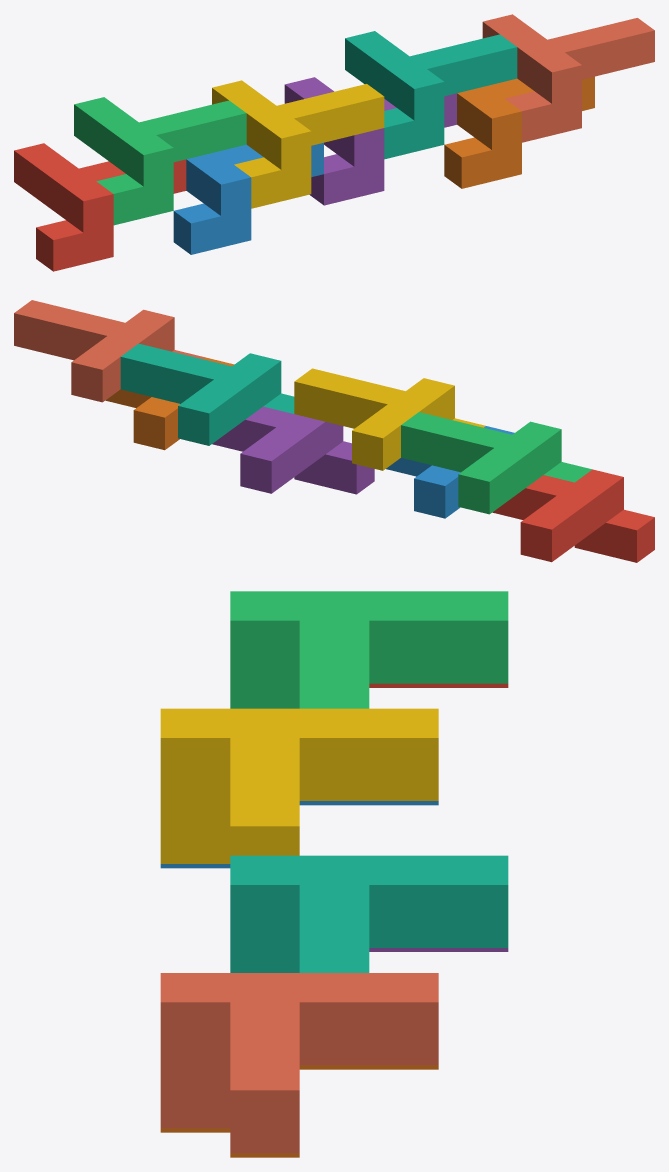
The model's file is tiling.obj.
3 views of the same model, one above another, from view 1: azimuth 30°, elevation 25°; view 2: azimuth 150°, elevation 25°; view 3: azimuth 270°, elevation 25° (orthographic). The views are drawn at different scales.
Visible parts, largest first — view 1: copy_1_domain_3, copy_1_domain_7, copy_1_domain_4, copy_1_domain_8, copy_1_domain_1, copy_1_domain_2, copy_1_domain_6, copy_1_domain_5; view 2: copy_1_domain_3, copy_1_domain_7, copy_1_domain_1, copy_1_domain_8, copy_1_domain_5, copy_1_domain_4, copy_1_domain_2, copy_1_domain_6; view 3: copy_1_domain_8, copy_1_domain_4, copy_1_domain_3, copy_1_domain_7, copy_1_domain_6, copy_1_domain_2.
Part boxes in pixels (x1,y1,x2,y2): copy_1_domain_3: (74, 97, 246, 225); copy_1_domain_7: (345, 31, 517, 159); copy_1_domain_4: (212, 80, 384, 208); copy_1_domain_8: (482, 14, 654, 142); copy_1_domain_1: (14, 143, 186, 271); copy_1_domain_2: (173, 142, 323, 254); copy_1_domain_6: (444, 76, 594, 188); copy_1_domain_5: (284, 77, 456, 205); copy_1_domain_3: (401, 412, 592, 514); copy_1_domain_7: (120, 343, 294, 445); copy_1_domain_1: (492, 469, 654, 562); copy_1_domain_8: (14, 300, 205, 402); copy_1_domain_5: (212, 406, 374, 494); copy_1_domain_4: (294, 368, 485, 470); copy_1_domain_2: (386, 426, 514, 518); copy_1_domain_6: (105, 357, 234, 450); copy_1_domain_8: (160, 973, 438, 1153); copy_1_domain_4: (160, 708, 438, 863); copy_1_domain_3: (230, 591, 508, 708); copy_1_domain_7: (230, 855, 508, 972); copy_1_domain_6: (160, 1065, 438, 1157); copy_1_domain_2: (160, 801, 438, 868).
Size of the model in its own units: 20 by 3 by 5.
